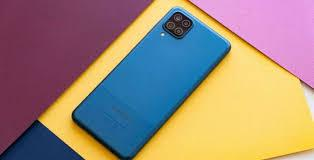Smartphone: (78, 7, 229, 148)
